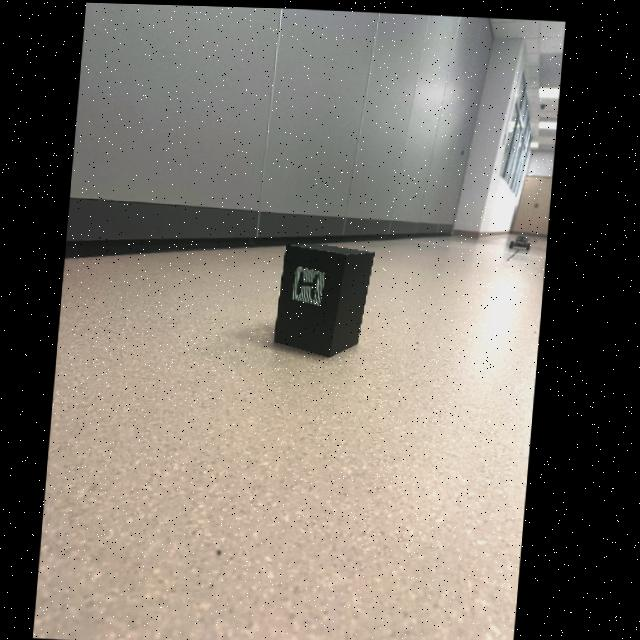H: (301, 270, 322, 296)
